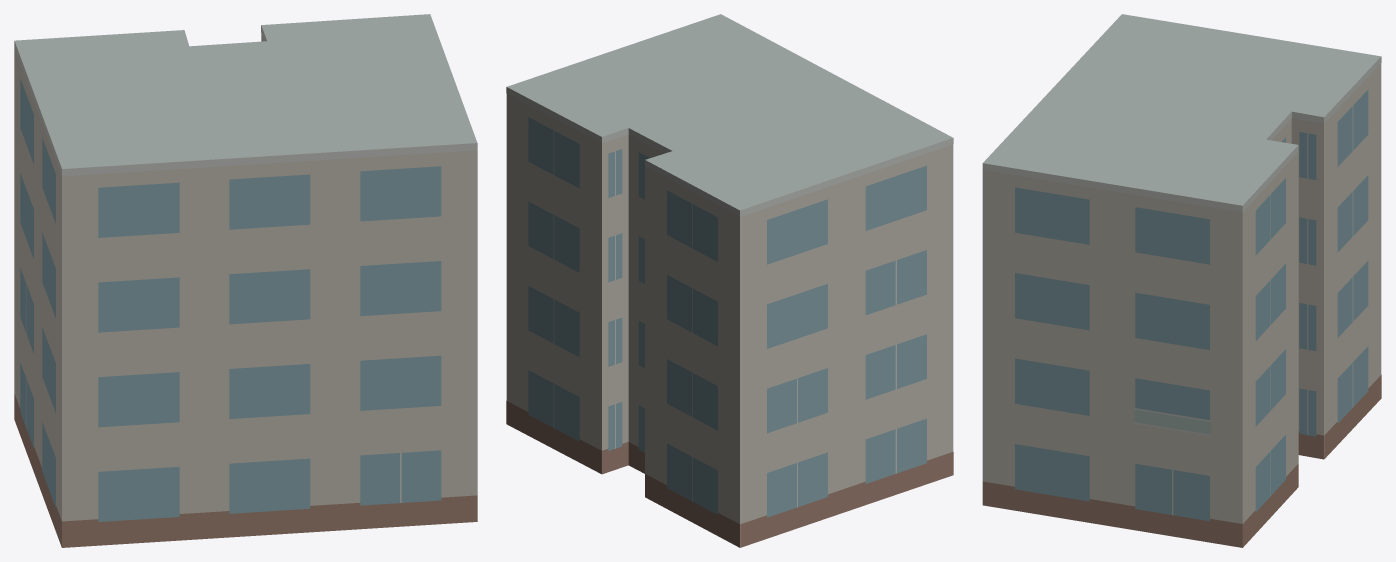
The model's file is survey-upis-32875959.glb.
The picture shows the model from 3 angles, left to right: view 1: azimuth 30°, elevation 25°; view 2: azimuth 150°, elevation 25°; view 3: azimuth 270°, elevation 25°; orthographic projection. The views are drawn at different scales.
Parts seen in each view (by area): view 1: survey-upis-32875959.tmp; view 2: survey-upis-32875959.tmp; view 3: survey-upis-32875959.tmp.
Boxes of the visible parts, x1,y1,x2,y2 form: survey-upis-32875959.tmp: [14, 14, 477, 547]; survey-upis-32875959.tmp: [506, 14, 953, 547]; survey-upis-32875959.tmp: [982, 14, 1381, 547].
Size of the model in its own units: 15.39 by 12.8 by 13.53.
